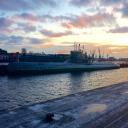submarine: (9, 53, 121, 72)
